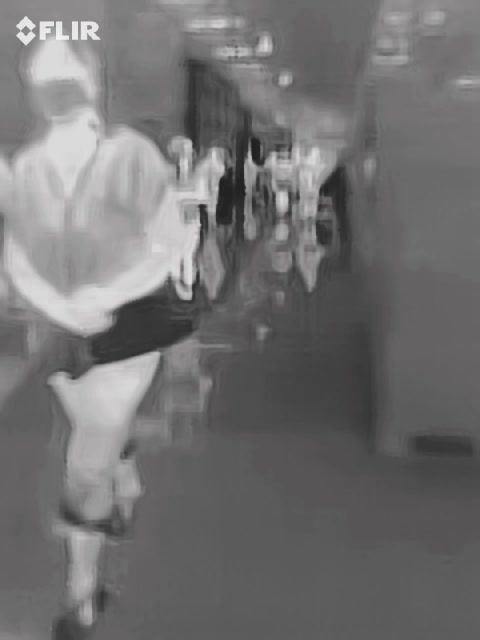head: (22, 31, 100, 127)
